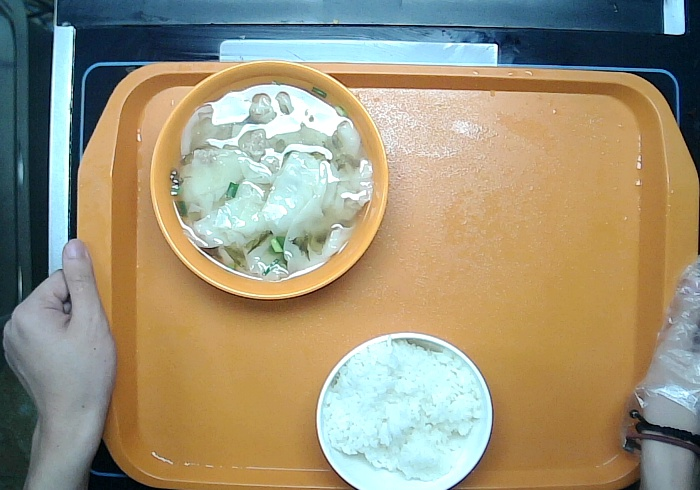NLDX-Fan_Wan: (319, 335, 497, 490)
NLDX-Hun_Tun_Wan: (138, 53, 389, 297)
